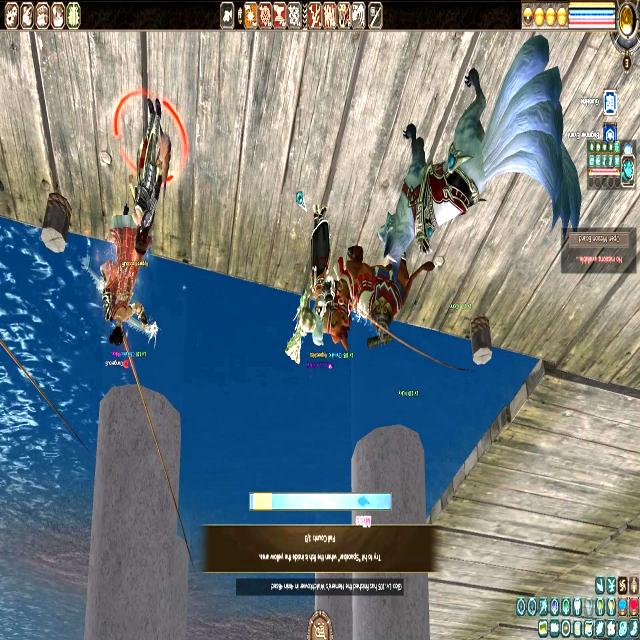fishes: (358, 496, 370, 508)
